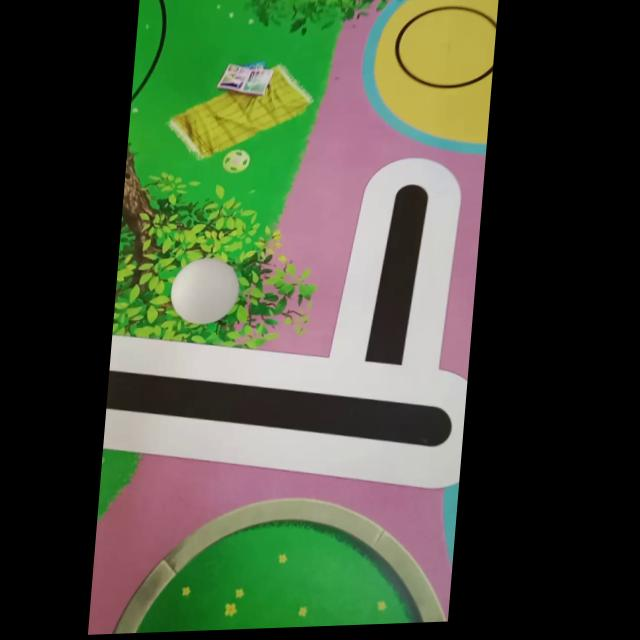white ball: (167, 255, 242, 326)
